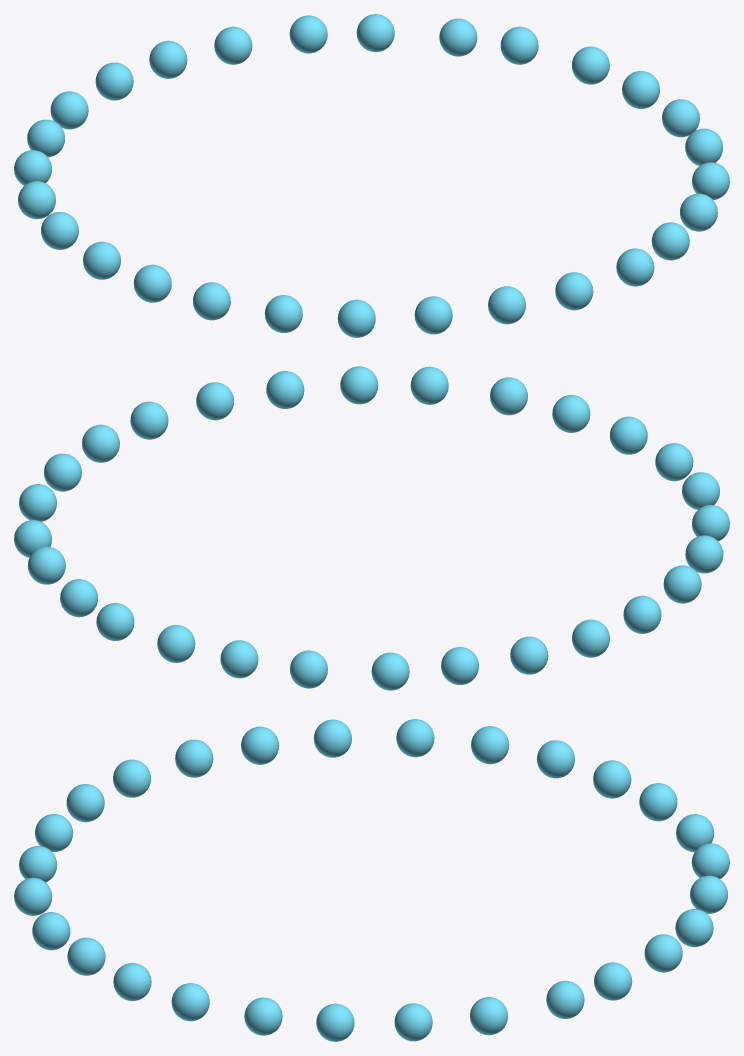
The picture shows the model from 3 angles, top to bottom: view 1: azimuth 30°, elevation 25°; view 2: azimuth 150°, elevation 25°; view 3: azimuth 270°, elevation 25°; orthographic projection.
Parts seen in each view (by area): view 1: Sphere049; view 2: Sphere049; view 3: Sphere049.
Part boxes in pixels (bbox=[...]): Sphere049: bbox=[14, 14, 729, 337]; Sphere049: bbox=[14, 366, 729, 690]; Sphere049: bbox=[14, 719, 729, 1041].
Size of the model in its own units: 153 by 8.43 by 154.
